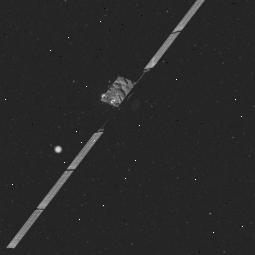smart_1: (44, 13, 204, 183)
